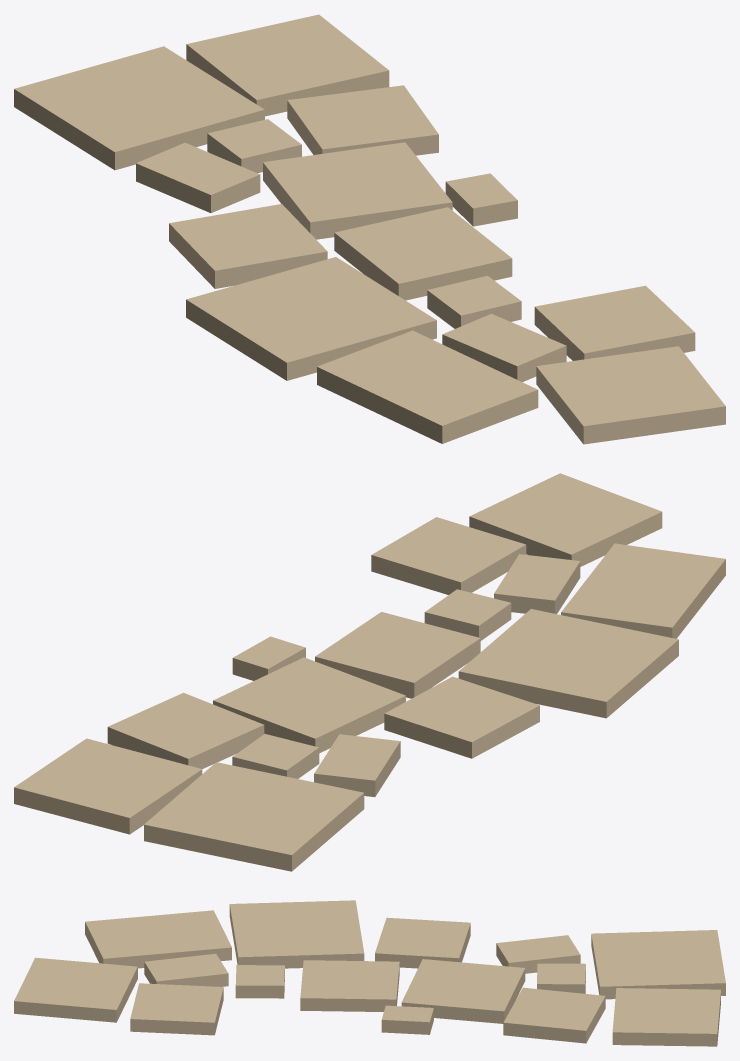
File: cobblepath4.fbx
3 views of the same model, one above another, from view 1: azimuth 30°, elevation 25°; view 2: azimuth 150°, elevation 25°; view 3: azimuth 270°, elevation 25° (orthographic). The views are drawn at different scales.
Parts seen in each view (by area): view 1: cobblepath4; view 2: cobblepath4; view 3: cobblepath4.
Part boxes in pixels (x1,y1,x2,y2): cobblepath4: (14,14,725,444); cobblepath4: (14,473,725,871); cobblepath4: (14,900,725,1046).
Size of the model in its own units: 3.61 by 0.1601 by 8.14.
